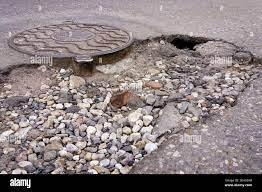open manhole-not overflowing-: (6, 18, 144, 62)
